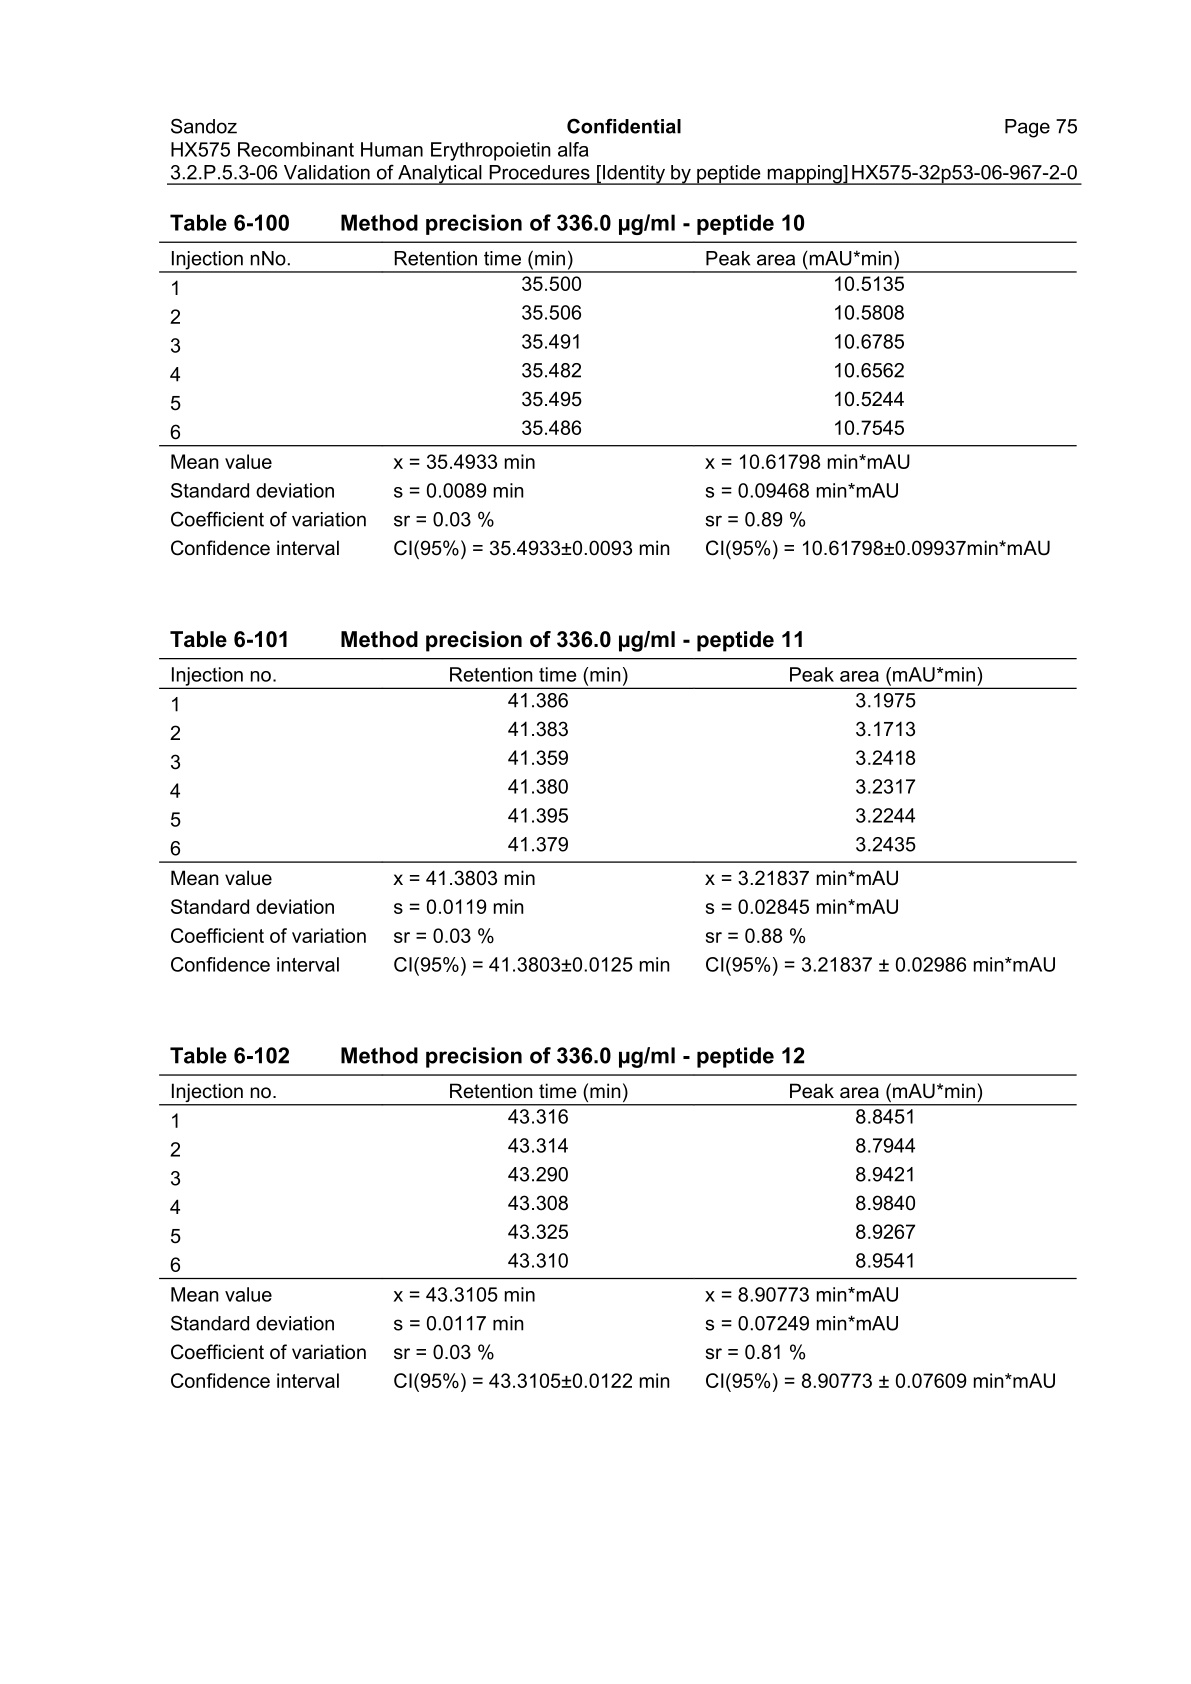partial_lined: (159, 655, 1081, 979), (159, 238, 1081, 560), (159, 1073, 1078, 1392)
